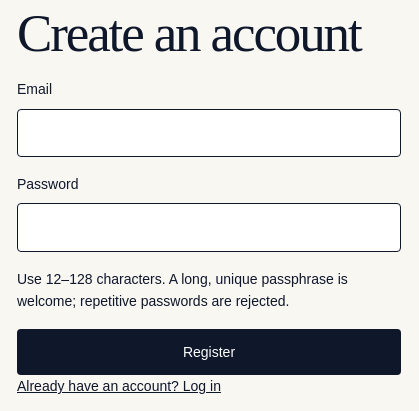
Test: registers then logs in through labeled accessible fields
Type "synthetic@example.invalid" into the field labelled "Email".
click(209, 133); type("synthetic@example.invalid")  # box [17,109,401,157]
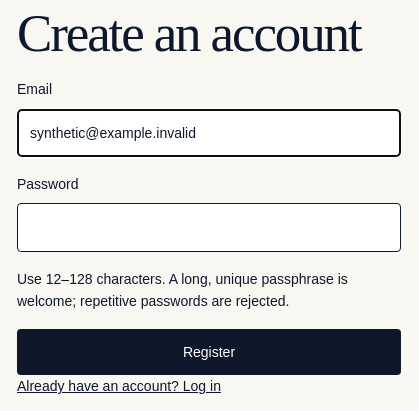
Type "Synthetic password phrase" into the password field labelled "Password".
click(209, 228); type("Synthetic password phrase")  # box [17,204,401,252]
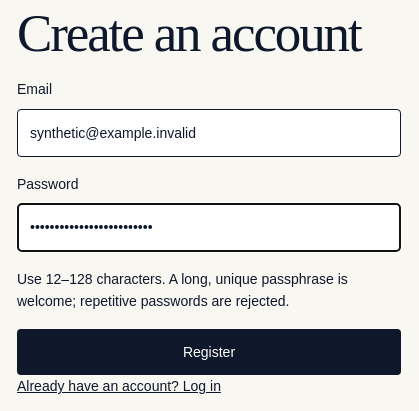
Click the button "Register".
click(209, 352)  # box [17,329,401,375]
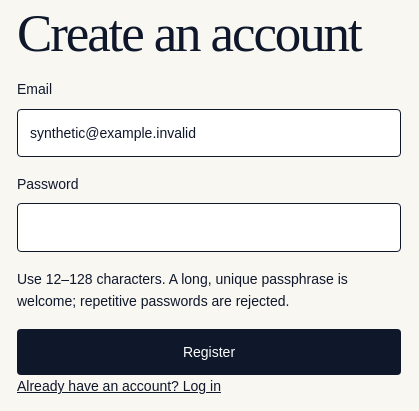
Check: the password field labelled "Password" is empty, box [17,204,401,252]
